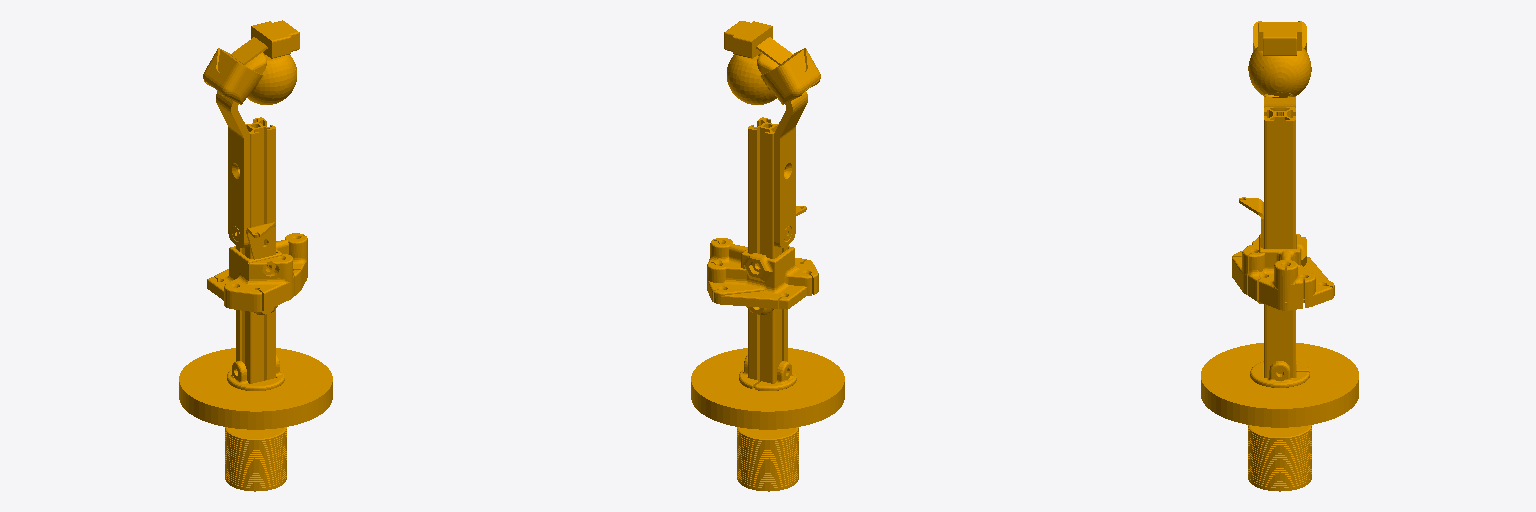
robot.urdf — musc_shoulder:
<?xml version="1.0" ?>
<robot name="musc_shoulder">
  <joint name="axis0" type="revolute">
    <parent link="base"/>
    <child link="shoulder_link1"/>
    <origin rpy="0 0 0" xyz="-0.2098   0.02439  0.37683"/>
    <axis xyz="0 1  0"/>
    <limit effort="0.0" lower="0.0" upper="1.57079632679" velocity="0.0"/>
  </joint>
  <joint name="axis1" type="revolute">
    <parent link="shoulder_link1"/>
    <child link="shoulder_link2"/>
    <origin rpy="0 0 0" xyz="0.01414 0      0"/>
    <axis xyz="1 0 0"/>
    <limit effort="0.0" lower="-1.57079632679" upper="1.57079632679" velocity="0.0"/>
  </joint>
  <joint name="axis2" type="revolute">
    <parent link="shoulder_link2"/>
    <child link="arm"/>
    <origin rpy="0 0 0" xyz="-0.01414  0       0"/>
    <axis xyz="0 0 1"/>
    <limit effort="0.0" lower="-1.2217304764" upper="1.2217304764" velocity="0.0"/>
  </joint>
  <link name="arm">
    <inertial>
      <mass value="1.3900711467671745"/>
      <origin rpy="0 0 0" xyz="-8.6600e-03 -2.0000e-05 -2.0306e-01"/>
      <inertia ixx="0.05165470764810388" ixy="0.007395005001894429" ixz="0.05294857060727835" iyy="0.11721077113089157" iyz="-0.0058812250172963505" izz="0.0682664756117262"/>
    </inertial>
    <collision name="arm_collision">
      <origin rpy="0 0 0" xyz="-8.6600e-03 -2.0000e-05 -2.0306e-01"/>
      <geometry>
        <mesh filename="package://robots/musc_shoulder/meshes/CAD/arm.stl" scale="0.001 0.001 0.001"/>
      </geometry>
    </collision>
    <visual name="arm_visual">
      <origin rpy="0 0 0" xyz="-8.6600e-03 -2.0000e-05 -2.0306e-01"/>
      <geometry>
        <mesh filename="package://robots/musc_shoulder/meshes/CAD/arm.stl" scale="0.001 0.001 0.001"/>
      </geometry>
    </visual>
  </link>
  <link name="base">
    <inertial>
      <mass value="5.129823793617418"/>
      <origin rpy="0 0 0" xyz="-0.07334  0.02503  0.25408"/>
      <inertia ixx="0.3924898054873209" ixy="0.009815079439375258" ixz="0.10252824580446568" iyy="0.41722624828278" iyz="-0.03302147764825088" izz="0.06630957472950233"/>
    </inertial>
    <collision name="base_collision">
      <origin rpy="0 0 0" xyz="-0.07334  0.02503  0.25408"/>
      <geometry>
        <mesh filename="package://robots/musc_shoulder/meshes/CAD/base.stl" scale="0.001 0.001 0.001"/>
      </geometry>
    </collision>
    <visual name="base_visual">
      <origin rpy="0 0 0" xyz="-0.07334  0.02503  0.25408"/>
      <geometry>
        <mesh filename="package://robots/musc_shoulder/meshes/CAD/base.stl" scale="0.001 0.001 0.001"/>
      </geometry>
    </visual>
  </link>
  <link name="shoulder_link1">
    <inertial>
      <mass value="3.839261942680571e-06"/>
      <origin rpy="0 0 0" xyz="0.00552 0.00466 0"/>
      <inertia ixx="5.48659016768844e-07" ixy="2.2809314376729742e-08" ixz="2.9554619174033445e-07" iyy="7.05611674891562e-07" iyz="-4.204613497327697e-08" izz="1.6356395688392827e-07"/>
    </inertial>
    <collision name="shoulder_link1_collision">
      <origin rpy="0 0 0" xyz="0.00552 0.00466 0"/>
      <geometry>
        <mesh filename="package://robots/musc_shoulder/meshes/CAD/shoulder_link1.stl" scale="0.001 0.001 0.001"/>
      </geometry>
    </collision>
    <visual name="shoulder_link1_visual">
      <origin rpy="0 0 0" xyz="0.00552 0.00466 0"/>
      <geometry>
        <mesh filename="package://robots/musc_shoulder/meshes/CAD/shoulder_link1.stl" scale="0.001 0.001 0.001"/>
      </geometry>
    </visual>
  </link>
  <link name="shoulder_link2">
    <inertial>
      <mass value="4.639261942680568e-06"/>
      <origin rpy="0 0 0" xyz="-0.01712 -0.00533 -0.00076"/>
      <inertia ixx="6.580421799820622e-07" ixy="1.8829176836912352e-08" ixz="3.712758817844876e-07" iyy="8.664972320005396e-07" iyz="-3.3255090176524245e-08" izz="2.119300388119357e-07"/>
    </inertial>
    <collision name="shoulder_link2_collision">
      <origin rpy="0 0 0" xyz="-0.01712 -0.00533 -0.00076"/>
      <geometry>
        <mesh filename="package://robots/musc_shoulder/meshes/CAD/shoulder_link2.stl" scale="0.001 0.001 0.001"/>
      </geometry>
    </collision>
    <visual name="shoulder_link2_visual">
      <origin rpy="0 0 0" xyz="-0.01712 -0.00533 -0.00076"/>
      <geometry>
        <mesh filename="package://robots/musc_shoulder/meshes/CAD/shoulder_link2.stl" scale="0.001 0.001 0.001"/>
      </geometry>
    </visual>
  </link>
</robot>

--- Facts derived from the render (not from the file) ---
3 views of the same robot in one strip: view 1: azimuth 30°, elevation 25°; view 2: azimuth 150°, elevation 25°; view 3: azimuth 270°, elevation 25° (orthographic).
Model musc_shoulder with 4 links and 3 joints (3 revolute), rooted at base, posed every joint at zero.
Links seen in each view (by area): view 1: arm; view 2: arm; view 3: arm.
Boxes of the visible links, left/top/right/bottom form: arm: left=179, top=20, right=332, bottom=491; arm: left=691, top=21, right=844, bottom=491; arm: left=1201, top=21, right=1358, bottom=491.
Size in the robot's own frame: 0.1 by 0.1 by 0.3255 metres.
Meshes: 4 distinct files referenced, 3 mesh visuals loaded (3 binary STL); not drawn: 1 (reference not matched to a file when rendering).